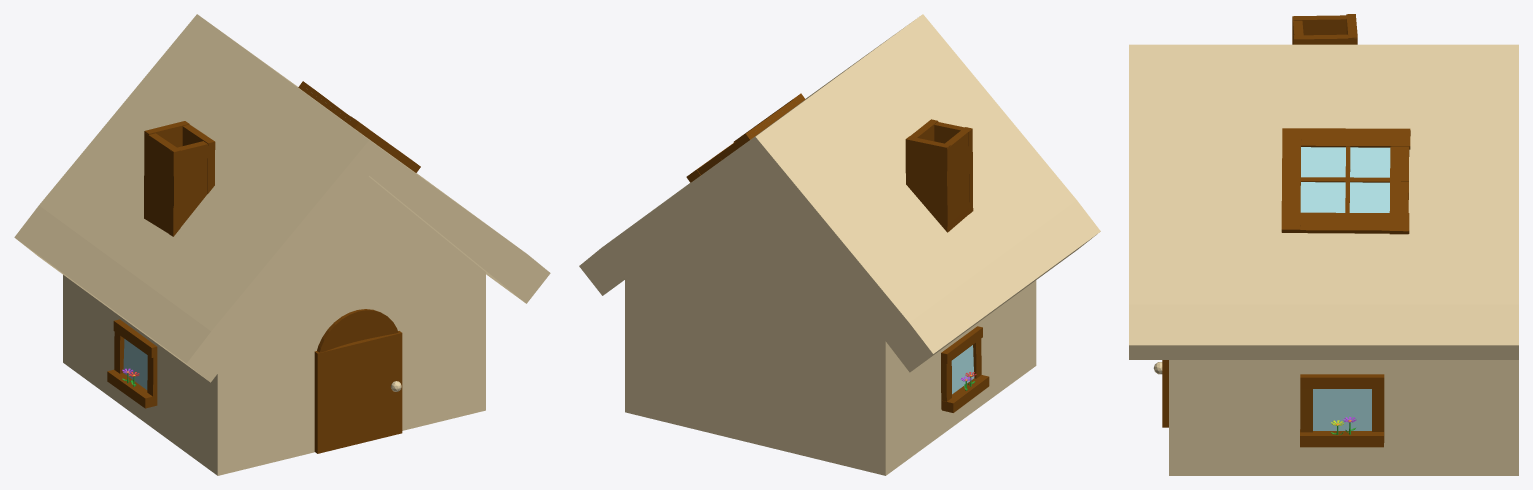
The model's file is HouseBrownfbx.fbx.
The picture shows the model from 3 angles, left to right: view 1: azimuth 30°, elevation 25°; view 2: azimuth 150°, elevation 25°; view 3: azimuth 270°, elevation 25°; orthographic projection. The views are drawn at different scales.
Parts seen in each view (by area): view 1: Cube.118; view 2: Cube.118; view 3: Cube.118.
Part boxes in pixels (box(x1,y1,x2,y2)): Cube.118: box(14, 14, 550, 475); Cube.118: box(579, 14, 1100, 475); Cube.118: box(1129, 14, 1518, 475).
Bounding box in the file's own units: 47.49 × 39.38 × 38.92.
